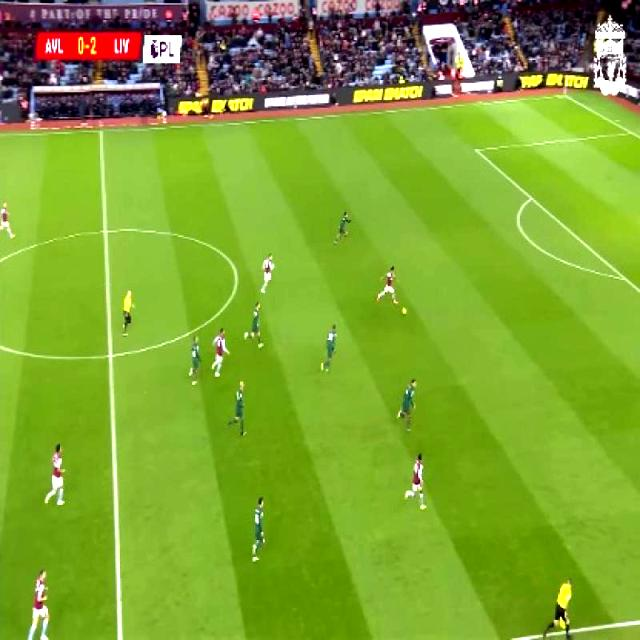bigarea_top_inner: (468, 140, 482, 158)
bigarea_top_outter: (623, 123, 637, 140)
bottom_arc_area_intersection: (616, 266, 630, 286)
corner: (554, 88, 569, 102)
halfcircle_bottom: (98, 340, 118, 370)
halfcircle_top: (92, 217, 116, 243)
midline_top_intersection: (94, 122, 108, 140)
top_arc_area_intersection: (524, 188, 538, 206)
